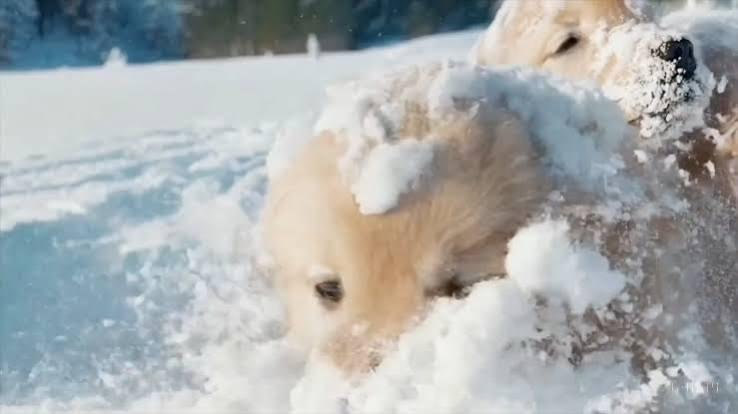adult_dog: (459, 0, 738, 352)
puppy-dog: (250, 58, 649, 382)
